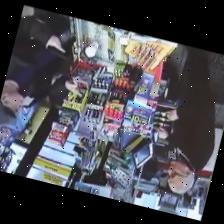person: (0, 9, 76, 125), (157, 45, 216, 193)
